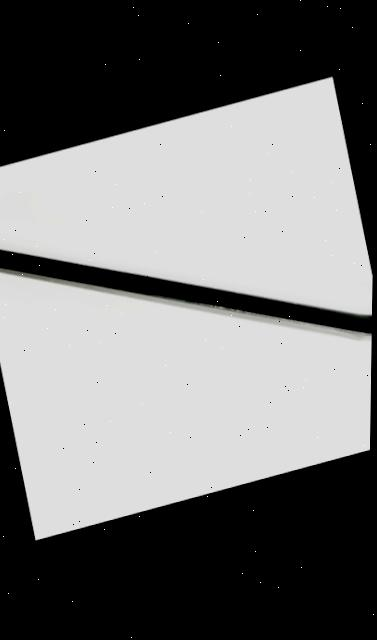crow bar: (0, 79, 376, 540)
